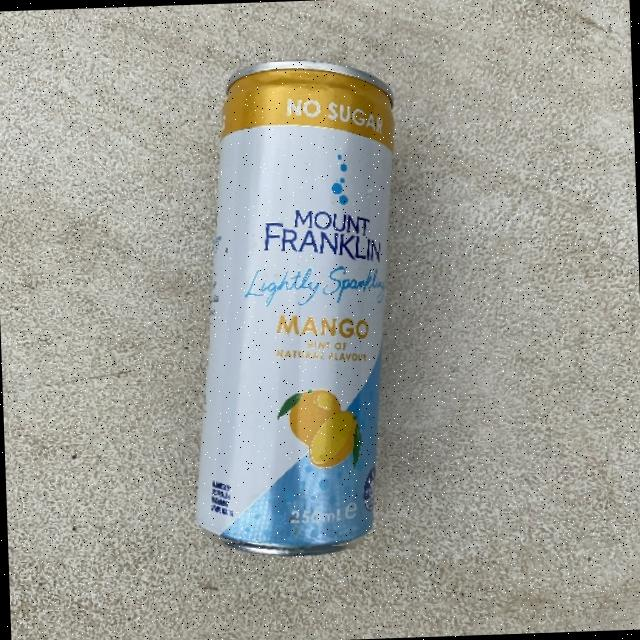metal: (178, 55, 410, 558)
